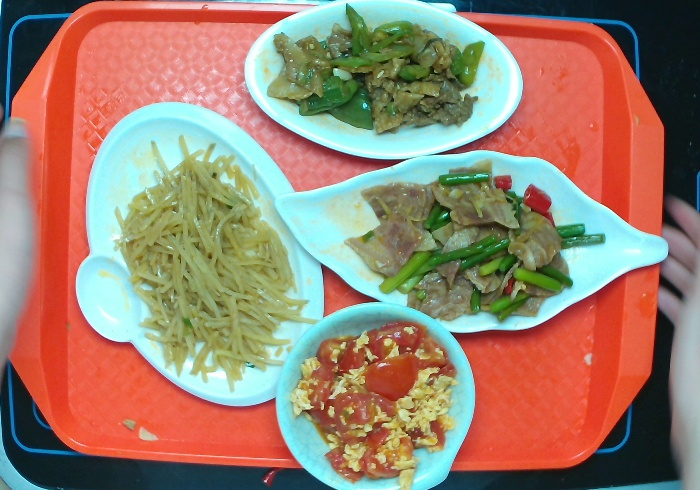RJxy-Bai_Se_Tuo_Yuan: (238, 1, 527, 165)
RJxy-Shu_Ye_Pan: (276, 146, 673, 338)
RJxy-Xiao_Jiao_Yuan_Wan: (276, 296, 482, 490)
RJxy-Zhan_Liao_Pan: (70, 98, 329, 413)
